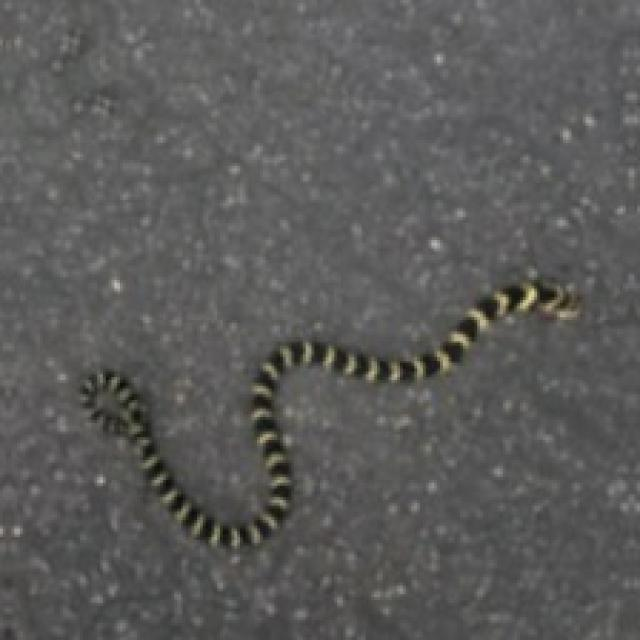king cobra: (80, 280, 577, 546)
